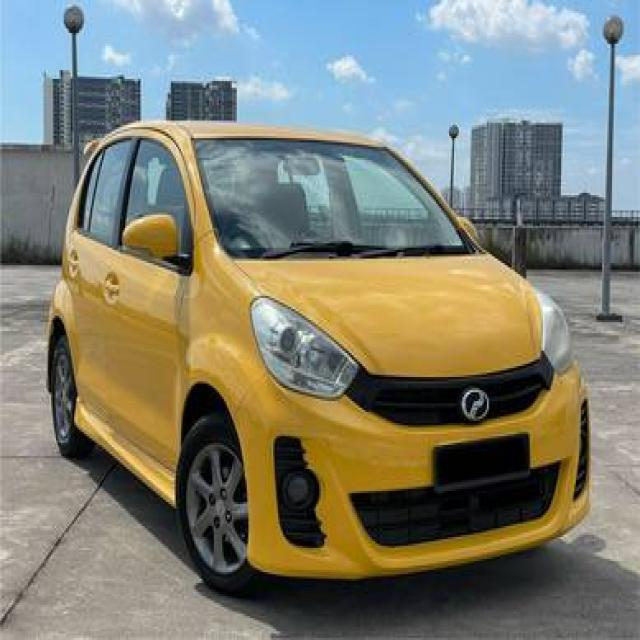PeroduaMyvi: (45, 114, 592, 596)
